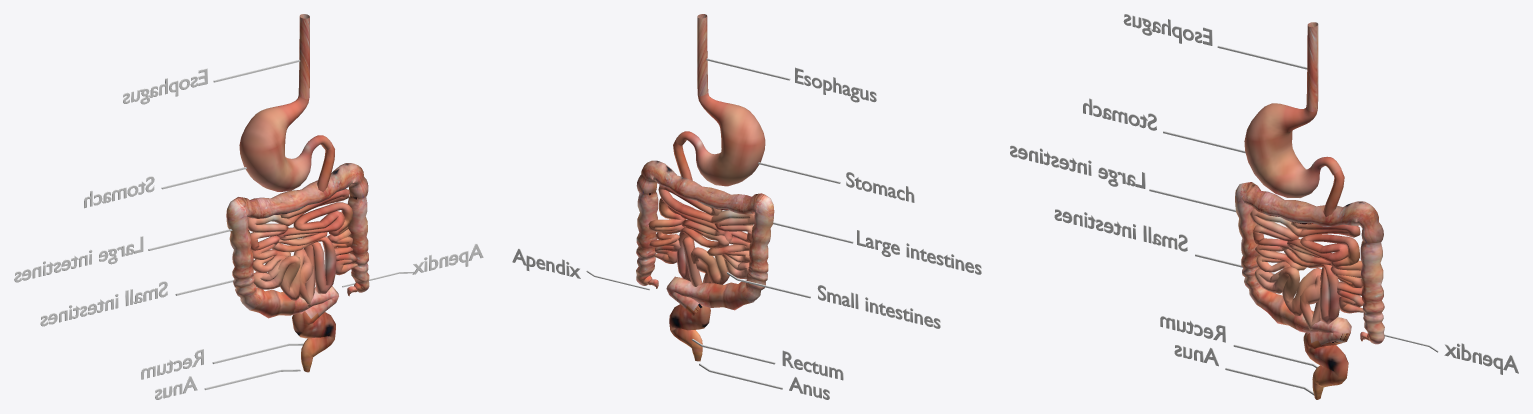
Rendered from dijestiveSystem.fbx.
3 views of the same model, side by side, from view 1: azimuth 30°, elevation 25°; view 2: azimuth 150°, elevation 25°; view 3: azimuth 330°, elevation 25° (orthographic). The views are drawn at different scales.
Visible parts, largest first — view 1: BezierCurve, Text.002, Text.003, Text.001, Text.006, Text, Text.005; view 2: BezierCurve, Text.003, Text.002, Text.001, Text.006, Text, Text.005; view 3: BezierCurve, Text.003, Text.002, Text.001, Text, Text.006, Text.005.
Part boxes in pixels (x1,y1,x2,y2): BezierCurve: (226, 14, 369, 372); Text.002: (14, 236, 143, 282); Text.003: (40, 281, 167, 326); Text.001: (123, 68, 207, 104); Text.006: (412, 243, 483, 274); Text: (84, 176, 154, 208); Text.005: (141, 349, 203, 379); BezierCurve: (636, 14, 774, 361); Text.003: (817, 285, 940, 328); Text.002: (857, 230, 981, 274); Text.001: (795, 67, 876, 102); Text.006: (512, 248, 580, 278); Text: (846, 172, 914, 202); Text.005: (782, 350, 843, 380); BezierCurve: (1235, 22, 1384, 399); Text.003: (1054, 209, 1187, 251); Text.002: (1010, 145, 1145, 188); Text.001: (1123, 14, 1212, 45); Text: (1083, 98, 1156, 130); Text.006: (1444, 343, 1518, 374); Text.005: (1160, 316, 1225, 342).
Bounding box in the file's own units: 375 × 269 × 34.45.
Materials: 1 (1 with a texture image).
